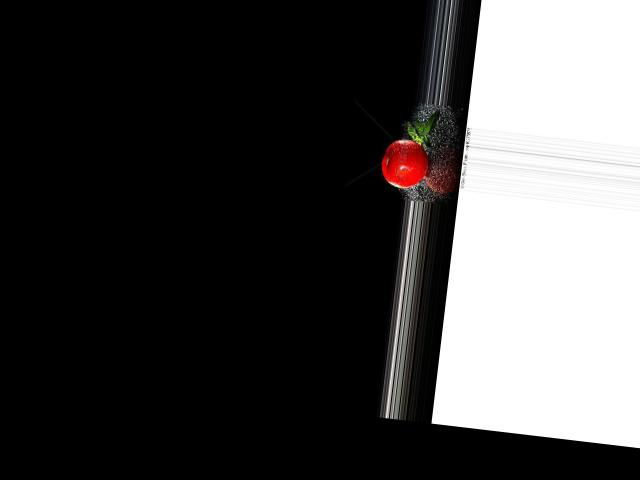tomato: (379, 136, 430, 190)
